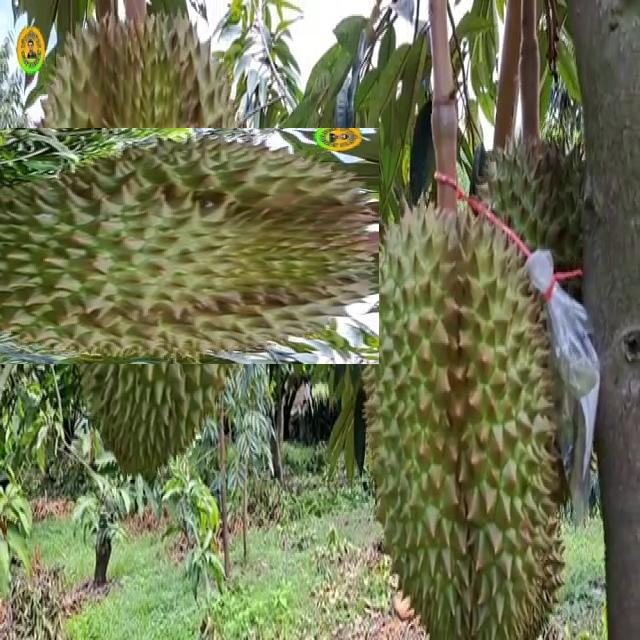durian: (0, 67, 318, 425), (360, 191, 570, 638)
